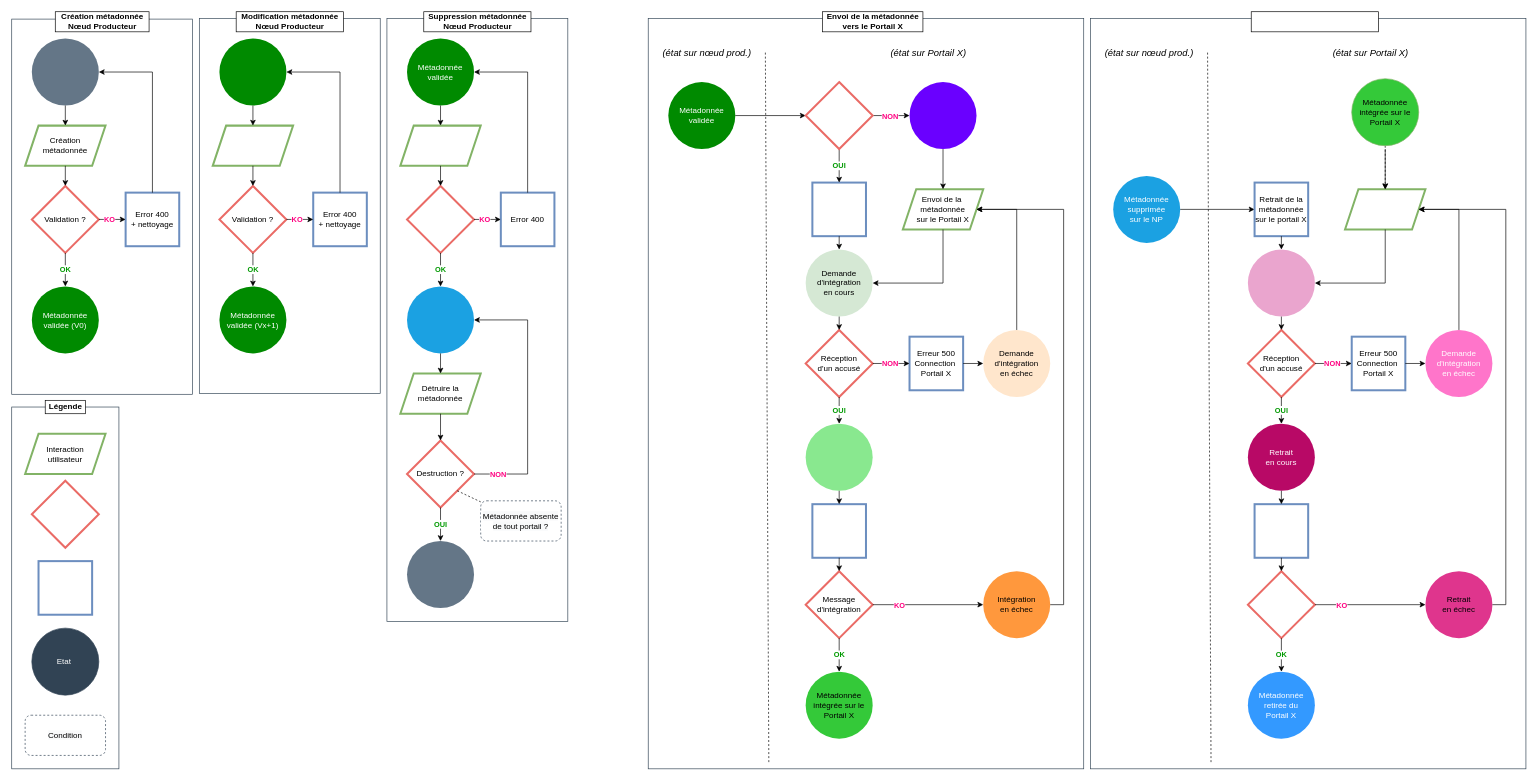
Some shapes in this 1538 by 781 pixel diagram are drawn without their labels. The centre of each missing label's shape, as x and y in pixels:
"(Conf) Envoi auto vers Portail X" goes at [838,115].
"Action système" goes at [65,587].
"Demande de retrait en cours" goes at [1281,282].
"Envoi auto vers Portail X" goes at [839,209].
"Intégration en cours" goes at [838,456].
"Message de retrait" goes at [1281,604].
"Modification métadonnée" goes at [252,145].
"Métadonnée absente" goes at [64,71].
"Métadonnée détruite" goes at [440,574].
"Métadonnée en local" goes at [942,115].
"Métadonnée supprimée" goes at [440,319].
"Métadonnée validée (Vx)" goes at [252,71].
"Retrait de la métadonnée du Portail X" goes at [1385,209].
"Réception d'un message d'intégration" goes at [839,530].
"Réception d'un message de retrait" goes at [1281,530].
"Suppression ?" goes at [440,219].
"Suppression de la métadonnée sur le Portail X" goes at [1315,21].
"Suppression métadonnée" goes at [440,145].
"Test" goes at [64,513].
